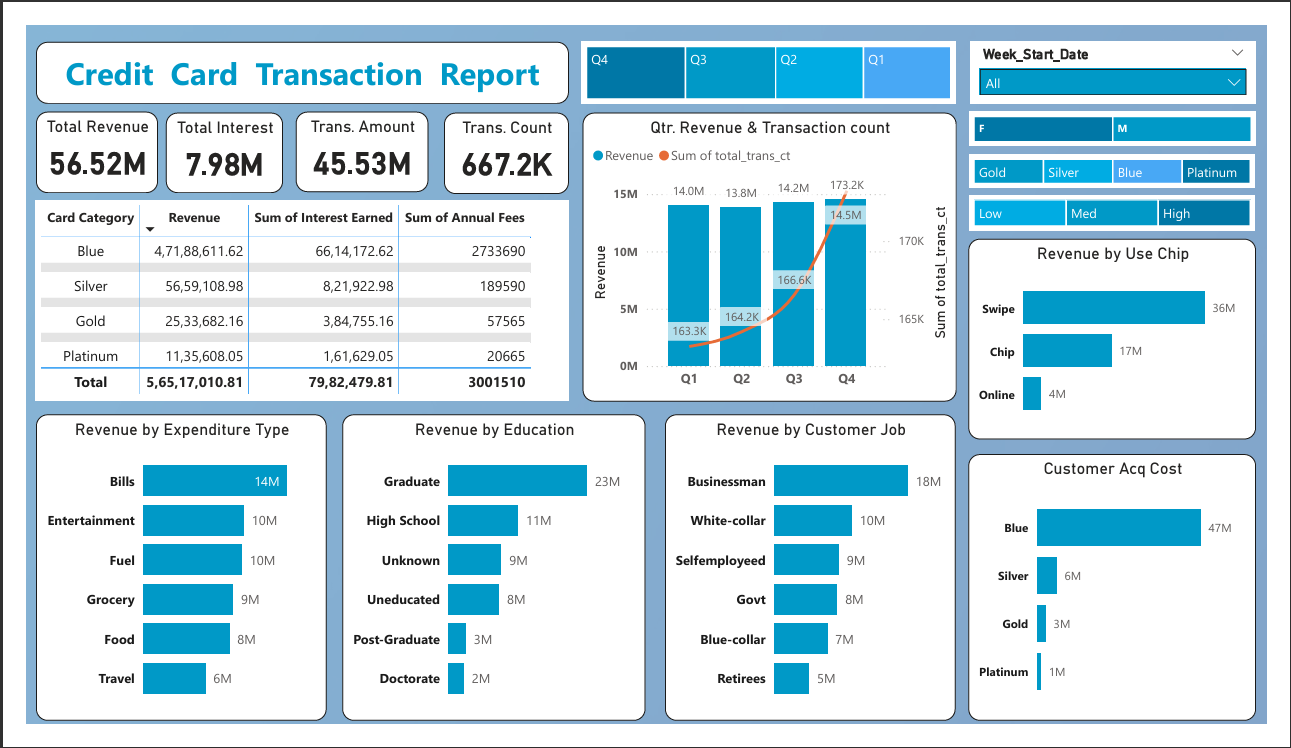

What the dashboard file says about the page in this screenshot:
{"tool":"powerbi","page":{"name":"Transaction","canvas":[1280,720],"ordinal":0},"visuals":[{"type":"textbox","box":[9.9,16.6,550,64.6],"z":0},{"type":"lineStackedColumnComboChart","title":"Qtr. Revenue & Transaction count","fields":{"Category":["public cc_detail.qtr"],"Y":["Sum(public cc_detail.revenue)"],"Y2":["Sum(public cc_detail.total_trans_ct)"]},"box":[574,90,386,298],"z":1000},{"type":"barChart","title":"Revenue by Expenditure Type","fields":{"Y":["Sum(public cc_detail.revenue)"],"Category":["public cc_detail.exp_type"]},"box":[9.9,400.9,299.8,316.4],"z":2000},{"type":"barChart","title":"Revenue by Education","fields":{"Y":["Sum(public cc_detail.revenue)"],"Category":["public cust_detail.education_level"]},"box":[326.3,400.9,313.1,316.4],"z":3000},{"type":"barChart","title":"Revenue by Customer Job","fields":{"Y":["Sum(public cc_detail.revenue)"],"Category":["public cust_detail.customer_job"]},"box":[659.3,400.9,299.8,316.4],"z":4000},{"type":"barChart","title":"Customer Acq Cost","fields":{"Y":["Sum(public cc_detail.revenue)"],"Category":["public cc_detail.card_category"]},"box":[972.4,442.3,296.5,275],"z":5000},{"type":"barChart","title":"Revenue by Use Chip","fields":{"Y":["Sum(public cc_detail.revenue)"],"Category":["public cc_detail.use_chip"]},"box":[972.4,220.3,296.5,207.1],"z":6000},{"type":"tableEx","title":"ffsd","fields":{"Values":["public cc_detail.card_category","Sum(public cc_detail.revenue)","Sum(public cc_detail.interest_earned)","Sum(public cc_detail.annual_fees)"]},"box":[10,180.8,550,207.5],"z":7000},{"type":"card","title":"Total Revenue","fields":{"Values":["Sum(public cc_detail.revenue)"]},"box":[10,89.2,125.8,84],"z":8000},{"type":"card","title":"Trans. Amount","fields":{"Values":["Sum(public cc_detail.total_trans_amt)"]},"box":[278.5,89.2,136.9,83.1],"z":9000},{"type":"card","title":"Total Interest","fields":{"Values":["Sum(public cc_detail.interest_earned)"]},"box":[143.8,90,120.8,83.1],"z":10000},{"type":"card","title":"Trans. Count","fields":{"Values":["Sum(public cc_detail.total_trans_ct)"]},"box":[430.8,90,129.2,84.2],"z":11000},{"type":"slicer","fields":{"Values":["public cc_detail.week_start_date"]},"box":[974,16.6,294.9,64.6],"z":12000},{"type":"treemap","fields":{"Group":["public cc_detail.qtr"],"Values":["Avg(public cc_detail.client_num)"]},"box":[573.1,16.6,386,64.6],"z":13000},{"type":"treemap","fields":{"Values":["Avg(public cc_detail.client_num)"],"Group":["public cust_detail.gender"]},"box":[973.3,89.2,295.8,35.8],"z":14000},{"type":"treemap","fields":{"Values":["Avg(public cc_detail.client_num)"],"Group":["public cc_detail.card_category"]},"box":[972.5,132.5,295.8,35],"z":15000},{"type":"treemap","fields":{"Values":["Avg(public cc_detail.client_num)"],"Group":["public cust_detail.income_group"]},"box":[972.7,174.5,295.5,37.3],"z":16000}]}

Visuals, with their boxes in screenshot pixels (x1, y1, x2, y2), scaled from the page's 1280x720 canvas onto the 1291x748 screenshot:
textbox: locate(10, 17, 565, 84)
"Qtr. Revenue & Transaction count" lineStackedColumnComboChart: locate(579, 94, 968, 403)
"Revenue by Expenditure Type" barChart: locate(10, 416, 312, 745)
"Revenue by Education" barChart: locate(329, 416, 645, 745)
"Revenue by Customer Job" barChart: locate(665, 416, 967, 745)
"Customer Acq Cost" barChart: locate(981, 460, 1280, 745)
"Revenue by Use Chip" barChart: locate(981, 229, 1280, 444)
"ffsd" tableEx: locate(10, 188, 565, 403)
"Total Revenue" card: locate(10, 93, 137, 180)
"Trans. Amount" card: locate(281, 93, 419, 179)
"Total Interest" card: locate(145, 94, 267, 180)
"Trans. Count" card: locate(435, 94, 565, 181)
slicer - public cc_detail.week_start_date: locate(982, 17, 1280, 84)
treemap - public cc_detail.qtr x Avg(public cc_detail.client_num): locate(578, 17, 967, 84)
treemap - Avg(public cc_detail.client_num) x public cust_detail.gender: locate(982, 93, 1280, 130)
treemap - Avg(public cc_detail.client_num) x public cc_detail.card_category: locate(981, 138, 1279, 174)
treemap - Avg(public cc_detail.client_num) x public cust_detail.income_group: locate(981, 181, 1279, 220)
